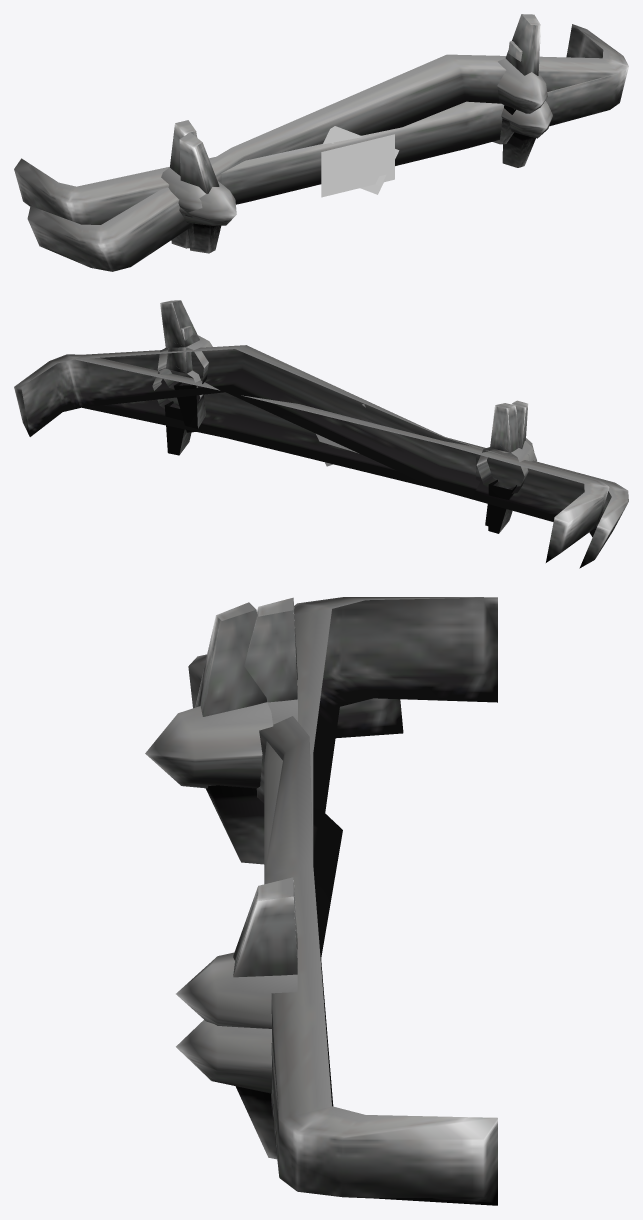
Rendered from rbmp_lr_t2.glb.
3 views of the same model, one above another, from view 1: azimuth 30°, elevation 25°; view 2: azimuth 150°, elevation 25°; view 3: azimuth 270°, elevation 25° (orthographic). The views are drawn at different scales.
Parts seen in each view (by area): view 1: rbmp_lr_t2_dam, rbmp_lr_t2; view 2: rbmp_lr_t2, rbmp_lr_t2_dam; view 3: rbmp_lr_t2, rbmp_lr_t2_dam.
Boxes of the visible parts, bbox=[...] form: rbmp_lr_t2_dam: bbox=[27, 14, 618, 271]; rbmp_lr_t2: bbox=[14, 24, 628, 248]; rbmp_lr_t2: bbox=[14, 326, 609, 562]; rbmp_lr_t2_dam: bbox=[75, 300, 628, 568]; rbmp_lr_t2: bbox=[176, 597, 497, 1205]; rbmp_lr_t2_dam: bbox=[145, 602, 403, 1119].
Size of the model in its own units: 2.42 by 0.6055 by 0.6496.
4 materials, 4 textured.
